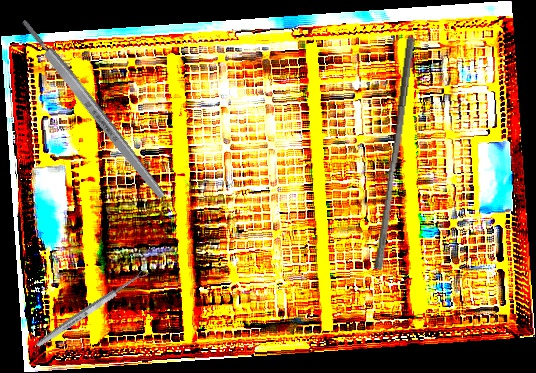Pusher: (373, 35, 416, 271)
Scalpel Handle: (18, 16, 168, 202)
Surgical Spoon: (34, 266, 151, 350)
